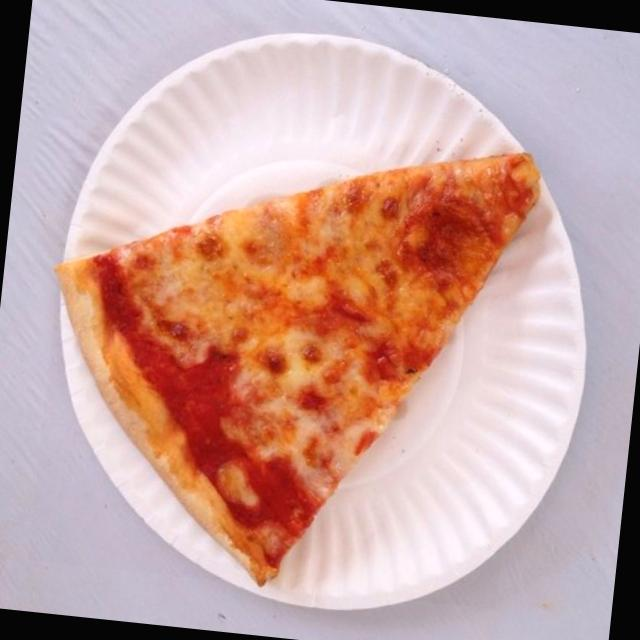pizza: (58, 152, 539, 583)
